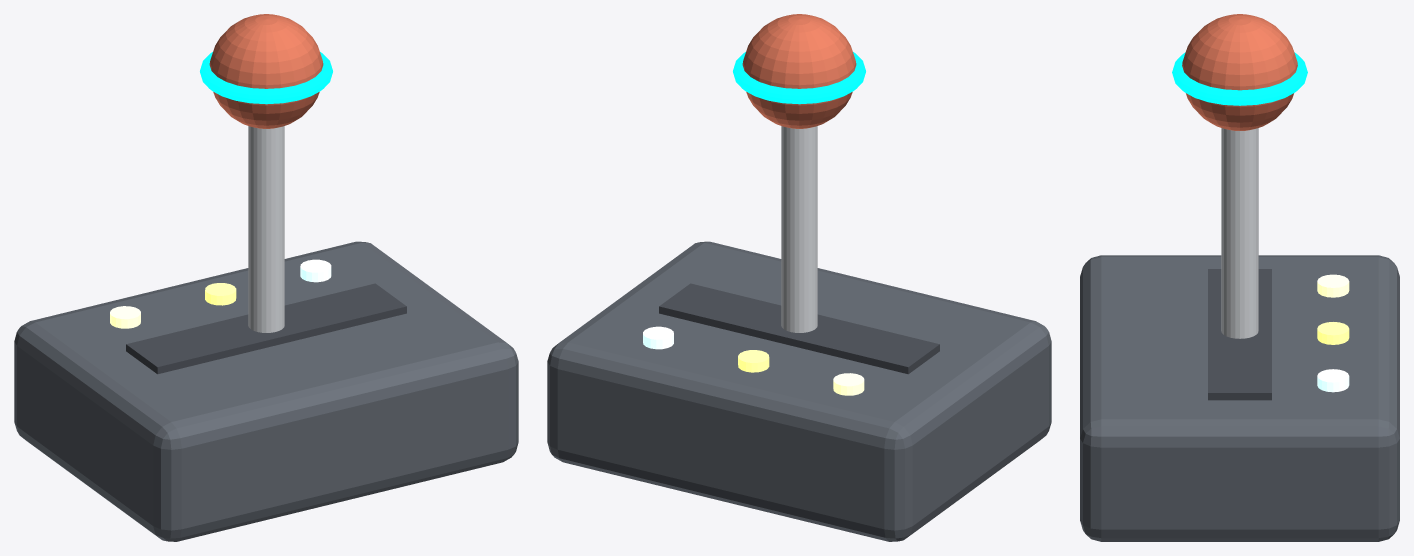
The model's file is EnvironmentControlLever.fbx.
3 renders of one model, left to right at view 1: azimuth 30°, elevation 25°; view 2: azimuth 150°, elevation 25°; view 3: azimuth 270°, elevation 25°, orthographic.
Visible parts, largest first — view 1: Lever_Chassis, Lever_Handle_Pivot, Lever_Slot_Guide, Lever_Indicator_Night, Lever_Indicator_Sunset, Lever_Indicator_Day; view 2: Lever_Chassis, Lever_Handle_Pivot, Lever_Slot_Guide, Lever_Indicator_Day, Lever_Indicator_Sunset, Lever_Indicator_Night; view 3: Lever_Chassis, Lever_Handle_Pivot, Lever_Slot_Guide, Lever_Indicator_Day, Lever_Indicator_Night, Lever_Indicator_Sunset.
Boxes of the visible parts, left/top/right/bottom form: Lever_Chassis: left=14, top=241, right=518, bottom=541; Lever_Handle_Pivot: left=200, top=14, right=332, bottom=332; Lever_Slot_Guide: left=126, top=283, right=406, bottom=374; Lever_Indicator_Night: left=300, top=259, right=331, bottom=282; Lever_Indicator_Sunset: left=205, top=283, right=236, bottom=305; Lever_Indicator_Day: left=110, top=306, right=140, bottom=328; Lever_Chassis: left=547, top=241, right=1051, bottom=541; Lever_Handle_Pivot: left=733, top=14, right=865, bottom=332; Lever_Slot_Guide: left=659, top=283, right=939, bottom=374; Lever_Indicator_Day: left=833, top=373, right=864, bottom=395; Lever_Indicator_Sunset: left=738, top=350, right=769, bottom=372; Lever_Indicator_Night: left=643, top=326, right=673, bottom=349; Lever_Chassis: left=1080, top=255, right=1399, bottom=541; Lever_Handle_Pivot: left=1172, top=14, right=1307, bottom=338; Lever_Slot_Guide: left=1208, top=269, right=1271, bottom=400; Lever_Indicator_Day: left=1317, top=274, right=1349, bottom=297; Lever_Indicator_Night: left=1317, top=369, right=1349, bottom=392; Lever_Indicator_Sunset: left=1317, top=322, right=1349, bottom=344.
Bounding box in the file's own units: 0.16 × 0.182 × 0.12.
